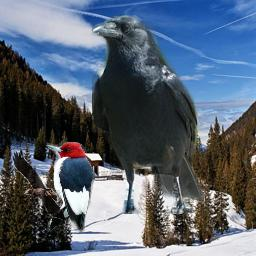Crow: (92, 15, 205, 214), (11, 150, 67, 222)
Woodpecker: (46, 139, 95, 235)
